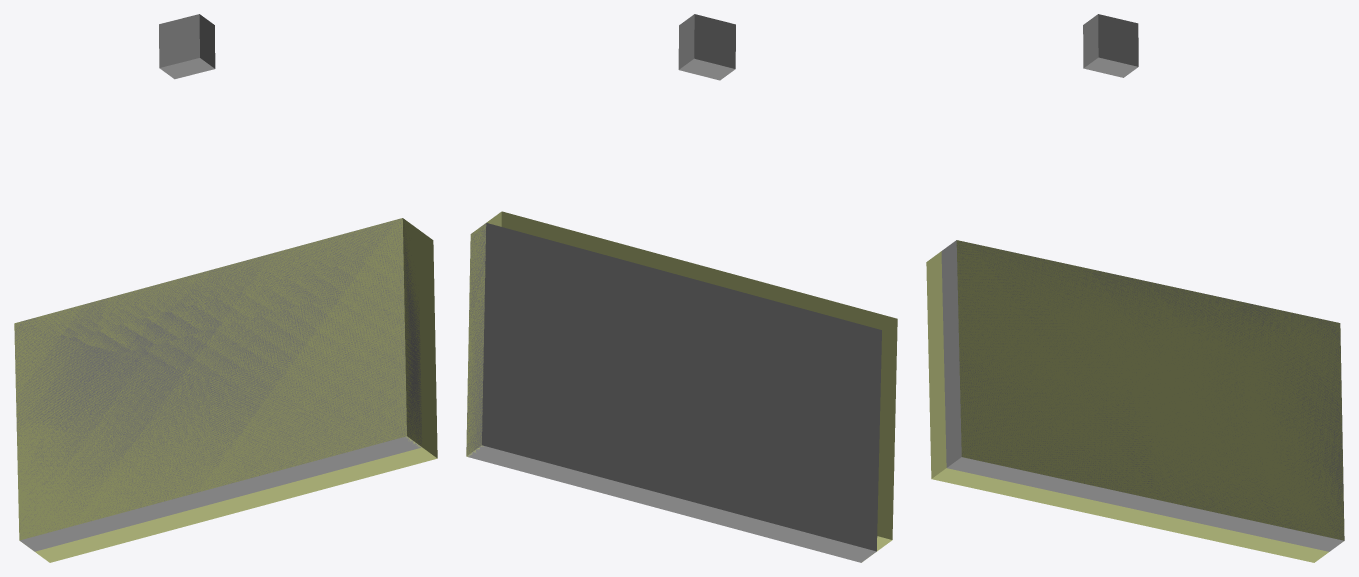
The picture shows the model from 3 angles, left to right: view 1: azimuth 30°, elevation 25°; view 2: azimuth 150°, elevation 25°; view 3: azimuth 330°, elevation 25°; orthographic projection. The views are drawn at different scales.
Visible parts, largest first — view 1: 0_1_2_0_3_3_1_1_0; view 2: 0_1_2_0_3_3_1_1_0; view 3: 0_1_2_0_3_3_1_1_0.
Boxes of the visible parts, x1=… form: 0_1_2_0_3_3_1_1_0: x1=14, y1=14, x2=437, y2=562; 0_1_2_0_3_3_1_1_0: x1=466, y1=14, x2=897, y2=562; 0_1_2_0_3_3_1_1_0: x1=926, y1=14, x2=1344, y2=562.
Size of the model in its own units: 44.43 by 52.24 by 6.
